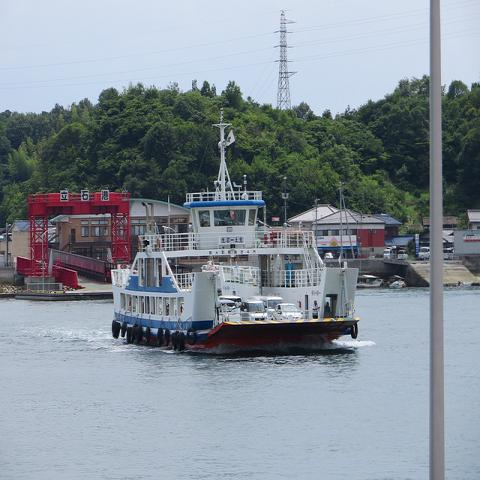car: (239, 299, 268, 320), (273, 301, 304, 320), (219, 301, 237, 314), (418, 247, 430, 260), (443, 249, 454, 260), (398, 250, 409, 260), (323, 251, 333, 260)
truck: (249, 295, 283, 320)
